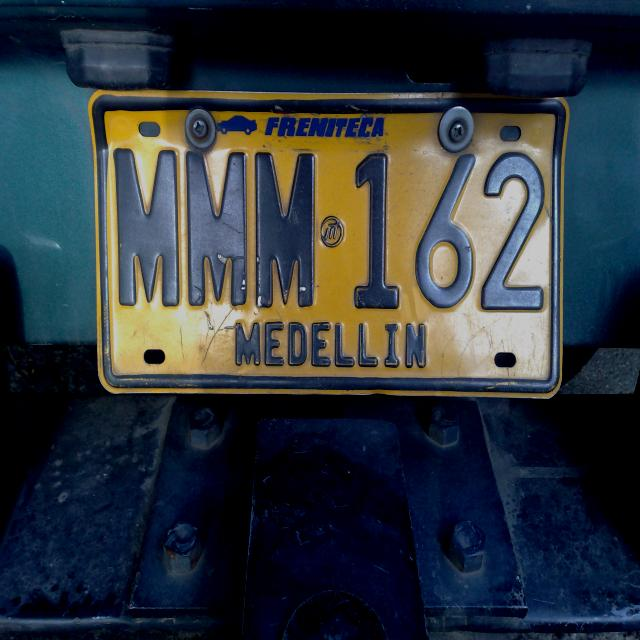placa: (85, 72, 572, 402)
